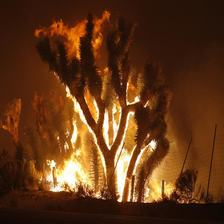fire: (25, 25, 183, 205)
